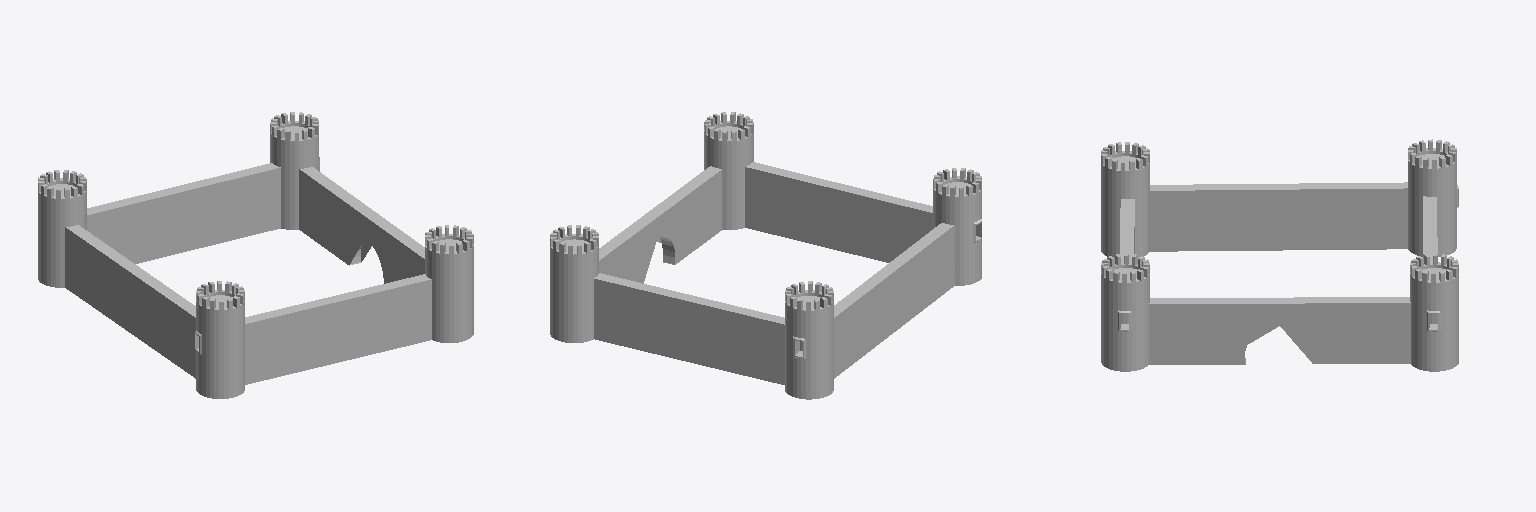
Rendered from inner-wall.obj.
3 views of the same model, side by side, from view 1: azimuth 30°, elevation 25°; view 2: azimuth 150°, elevation 25°; view 3: azimuth 270°, elevation 25° (orthographic).
Parts seen in each view (by area): view 1: CastleWalls_Cylinder.003; view 2: CastleWalls_Cylinder.003; view 3: CastleWalls_Cylinder.003.
Boxes of the visible parts, x1=… form: CastleWalls_Cylinder.003: x1=38, y1=112, x2=473, y2=398; CastleWalls_Cylinder.003: x1=550, y1=112, x2=981, y2=399; CastleWalls_Cylinder.003: x1=1101, y1=139, x2=1458, y2=371.
Size of the model in its own units: 13.03 by 4.37 by 14.56.